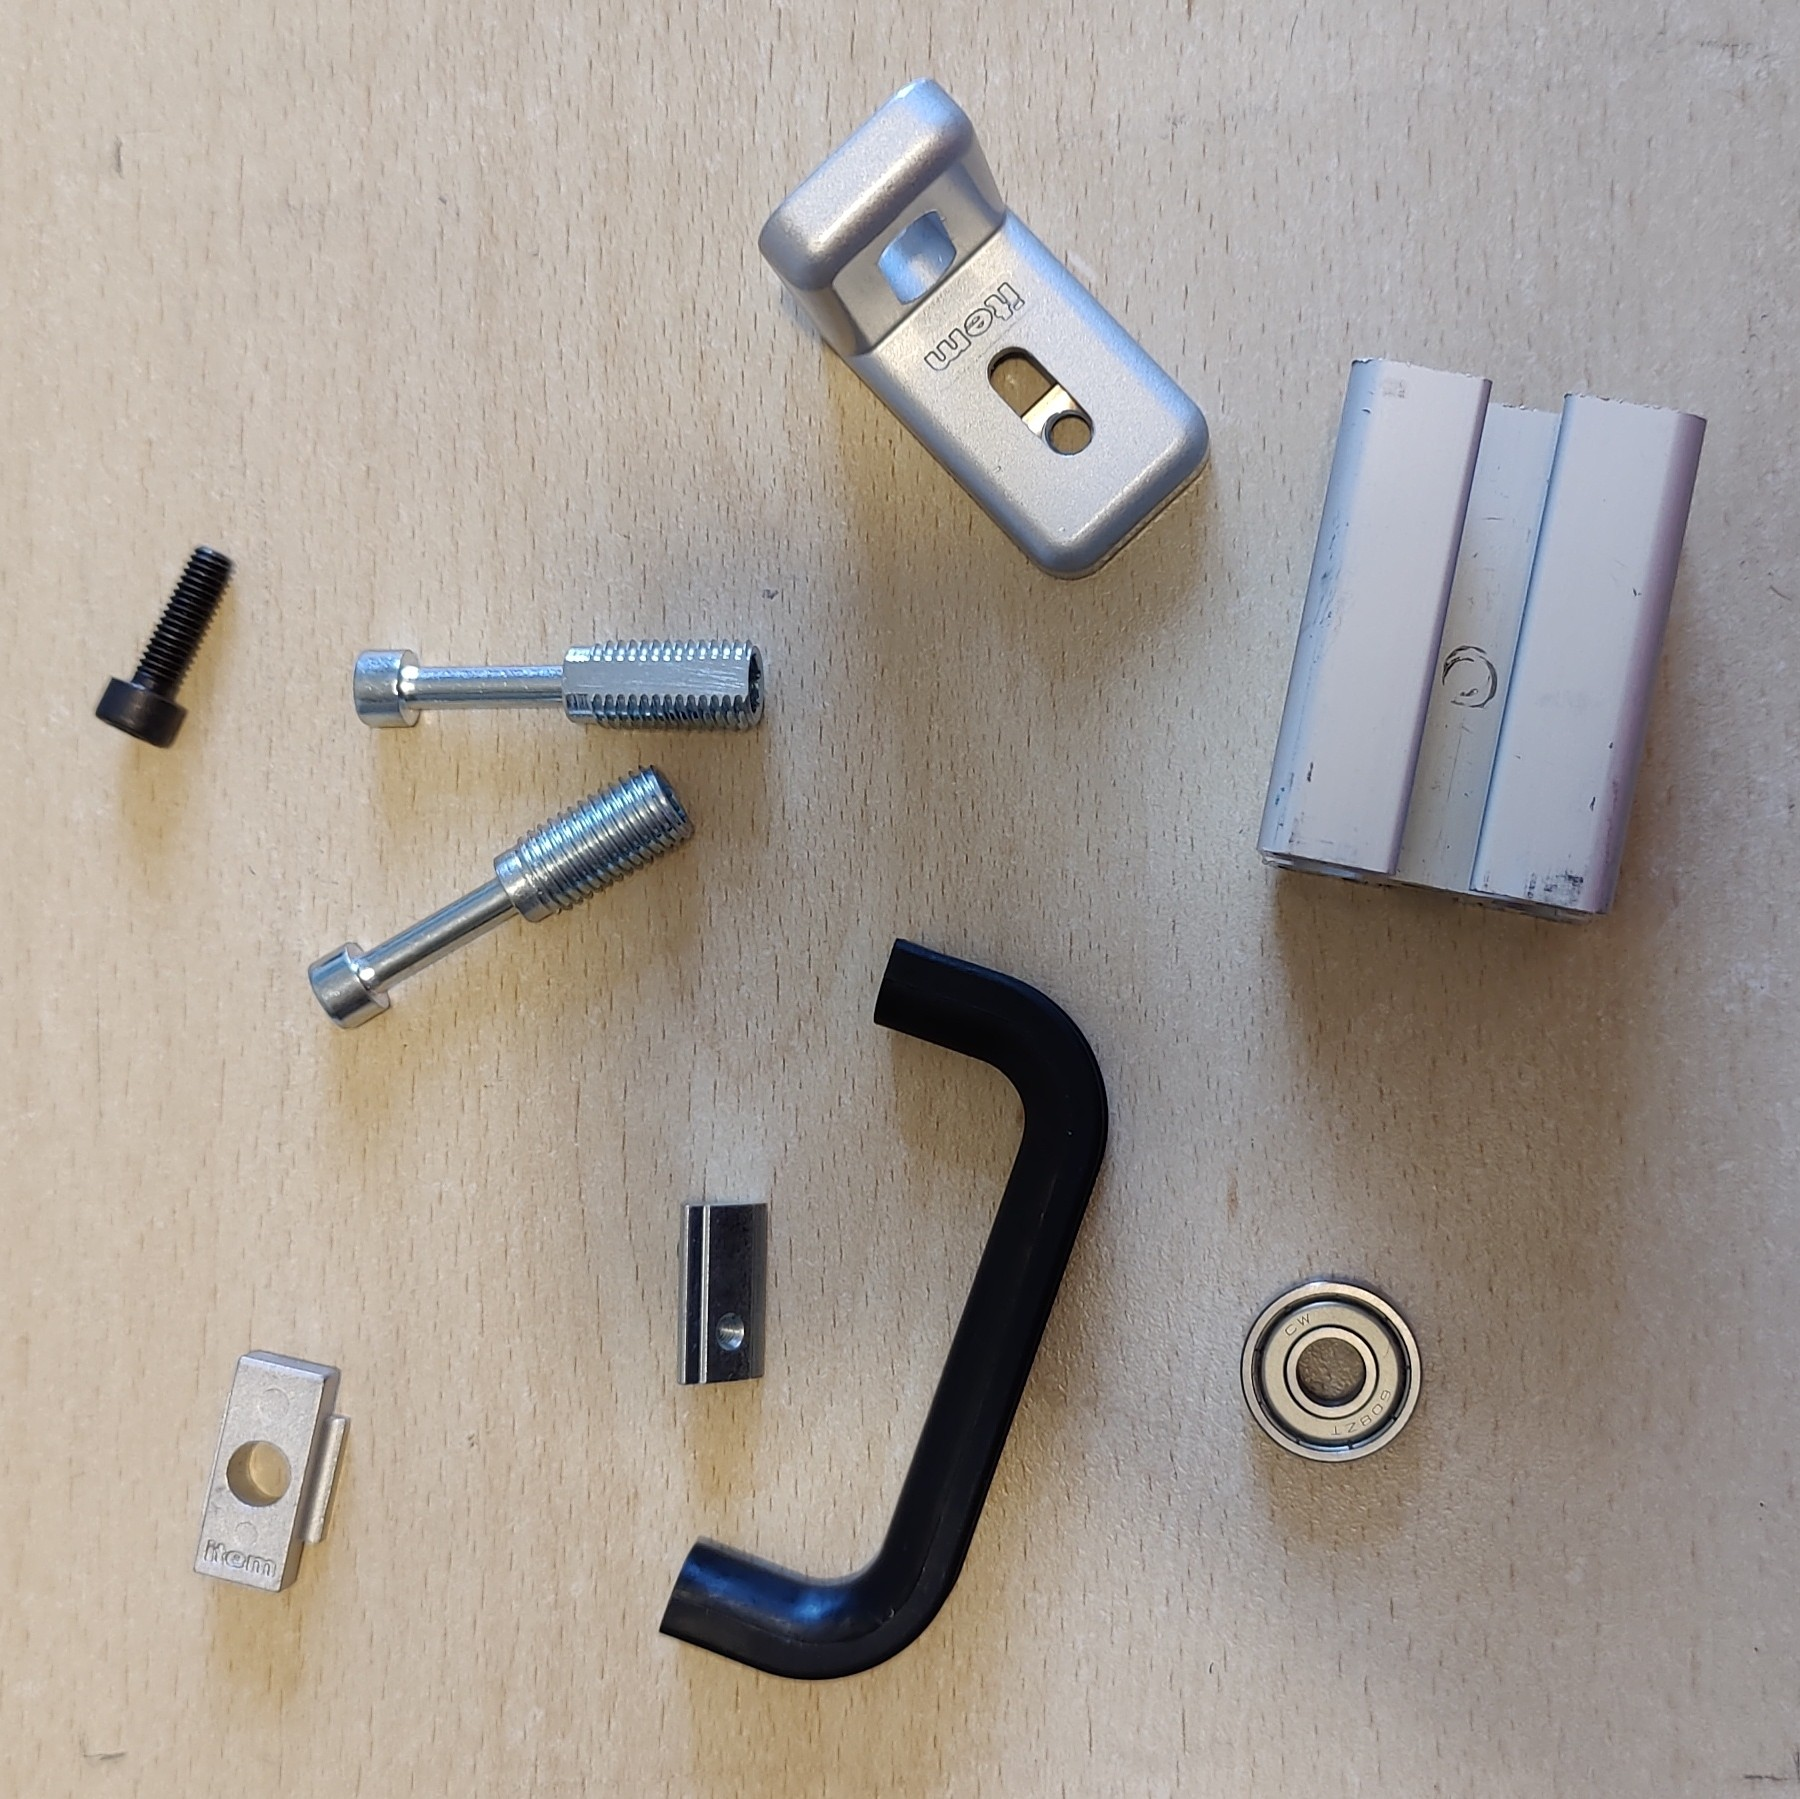Aluminium Extension: (1253, 353, 1711, 929)
Ball Bearing: (1238, 1272, 1428, 1468)
Multiwinkel: (756, 72, 1214, 583)
Pull Handle: (655, 936, 1113, 1684)
Shoulder Socket Head Cap Screw: (306, 761, 698, 1033), (352, 634, 771, 735)
Socket Head Cap Screw: (92, 540, 239, 750)
T Nut Square: (189, 1348, 352, 1595)
T Spring Nut: (674, 1194, 772, 1390)
